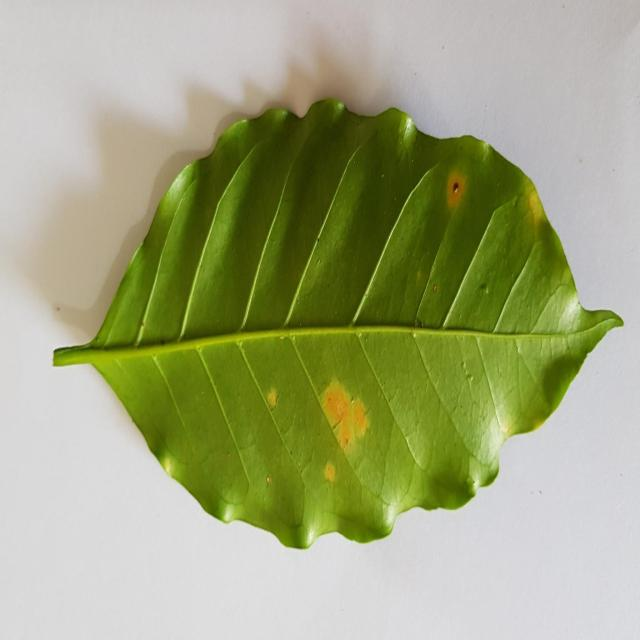Enfermedad-Roya: (50, 100, 624, 552)
